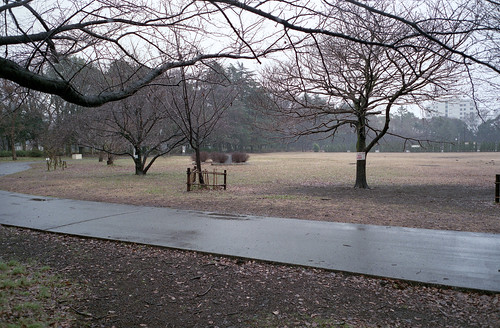building: (424, 90, 485, 143)
vegetation: (48, 1, 500, 157)
